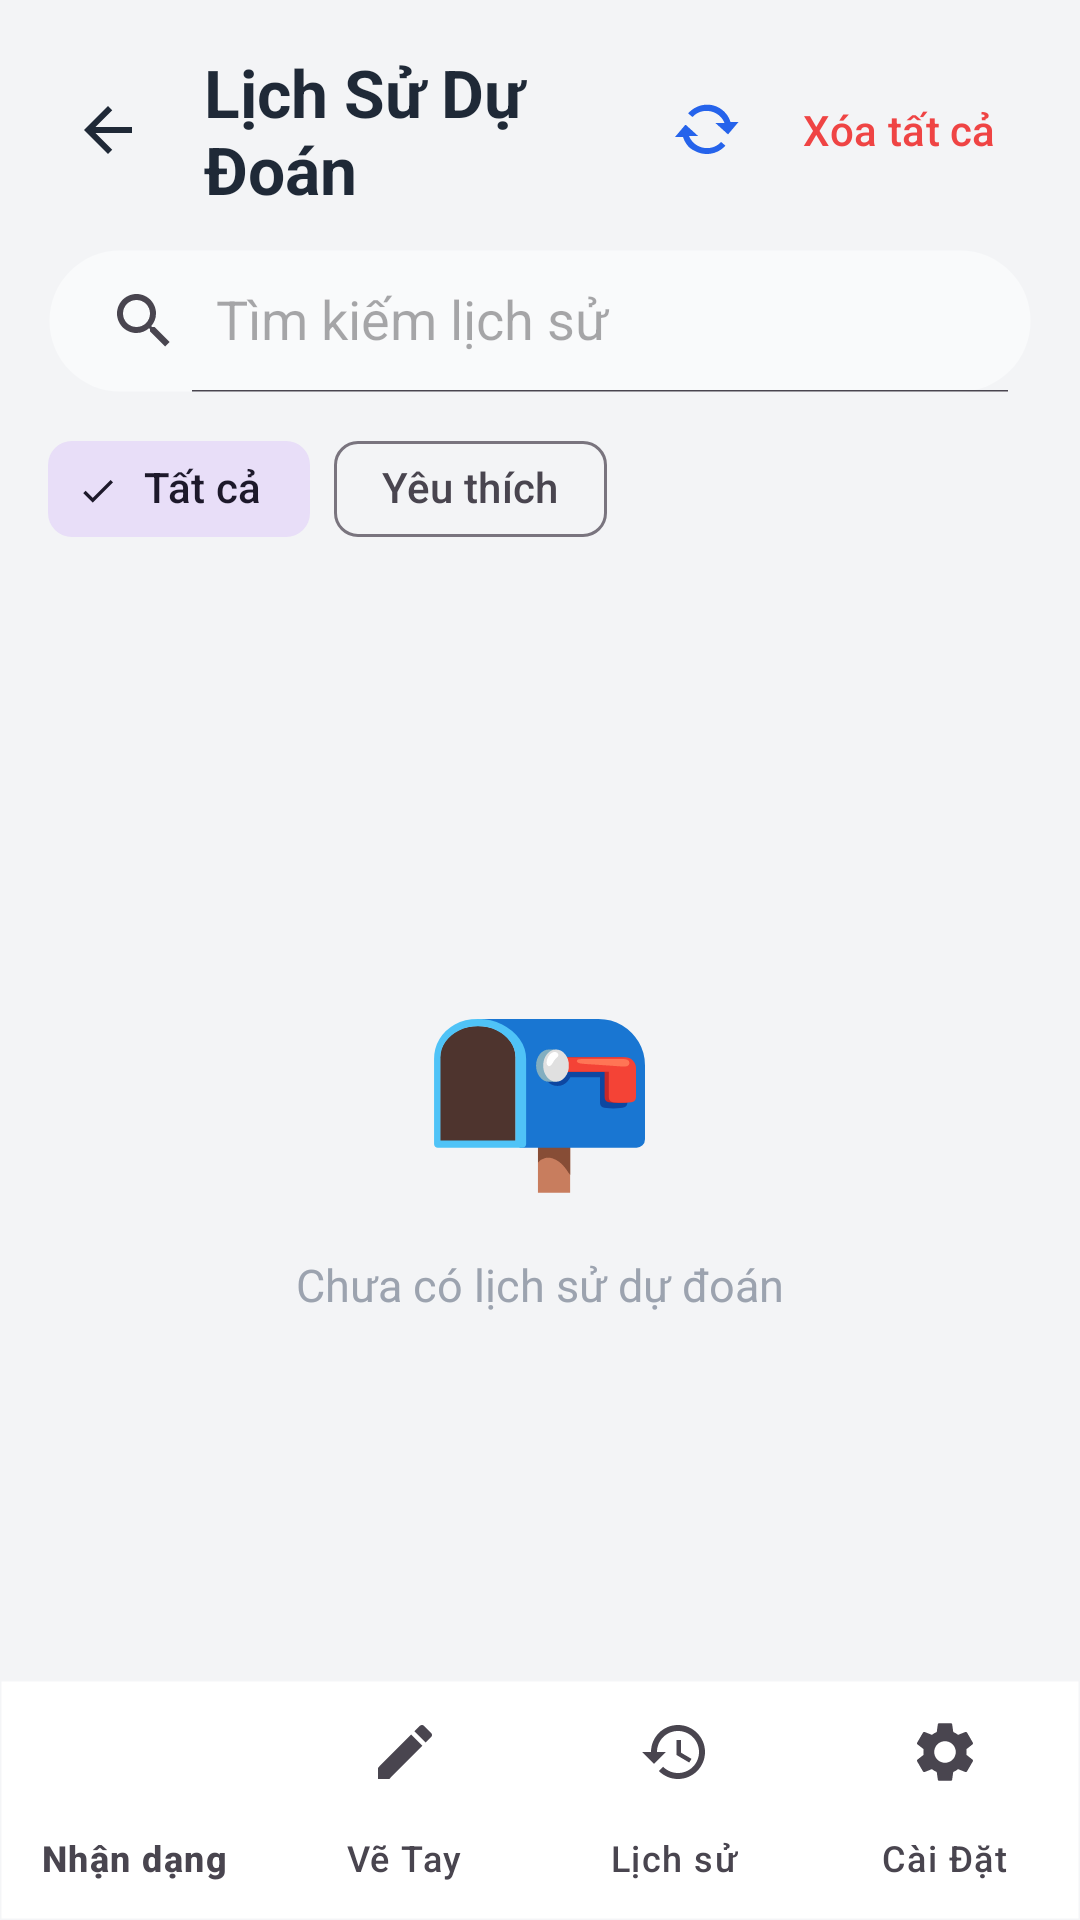

Icon bounding boxes for this 1080×1920 phone screenshot, format [left=x1, top=y1, right=x2, bottom=y2]:
Quay lại: [left=84, top=106, right=132, bottom=154]
sync: [left=675, top=104, right=739, bottom=154]
